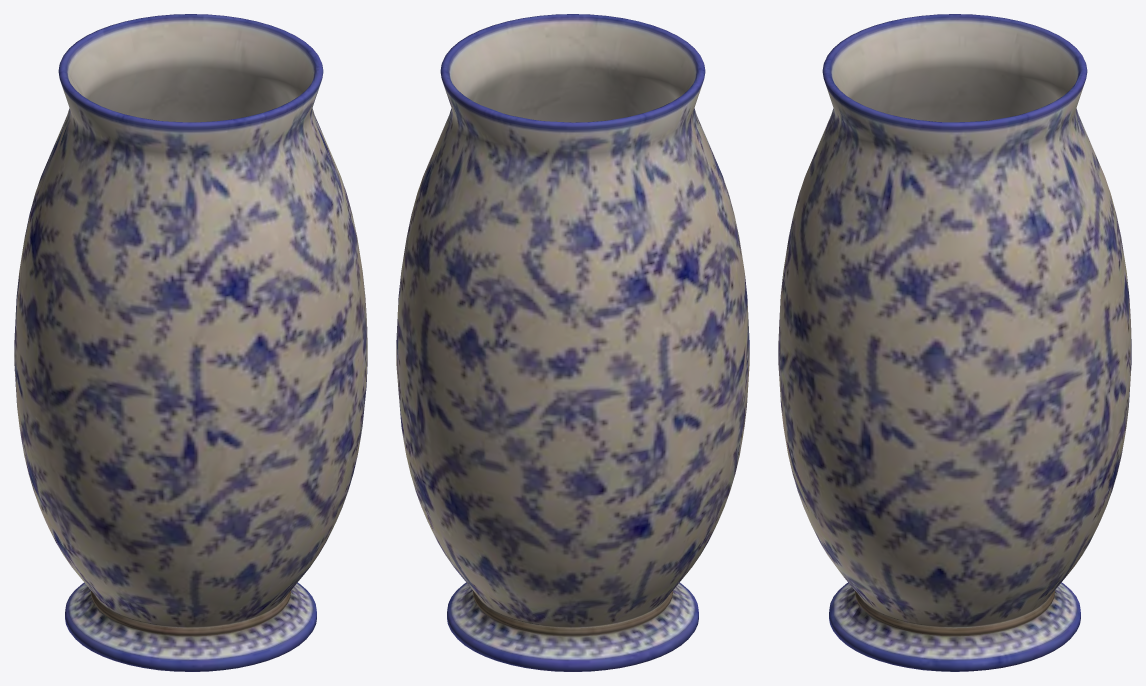
Rendered from antique_ceramic_vase_01.glb.
3 renders of one model, left to right at view 1: azimuth 30°, elevation 25°; view 2: azimuth 150°, elevation 25°; view 3: azimuth 270°, elevation 25°, orthographic.
Parts seen in each view (by area): view 1: antique_ceramic_vase_01; view 2: antique_ceramic_vase_01; view 3: antique_ceramic_vase_01.
Boxes of the visible parts, box(x1,y1,x2,y2) form: antique_ceramic_vase_01: box(14, 14, 367, 671); antique_ceramic_vase_01: box(396, 14, 749, 671); antique_ceramic_vase_01: box(778, 14, 1131, 671).
Size of the model in its own units: 0.255 by 0.4396 by 0.255.
Materials: 1 (1 with a texture image).
